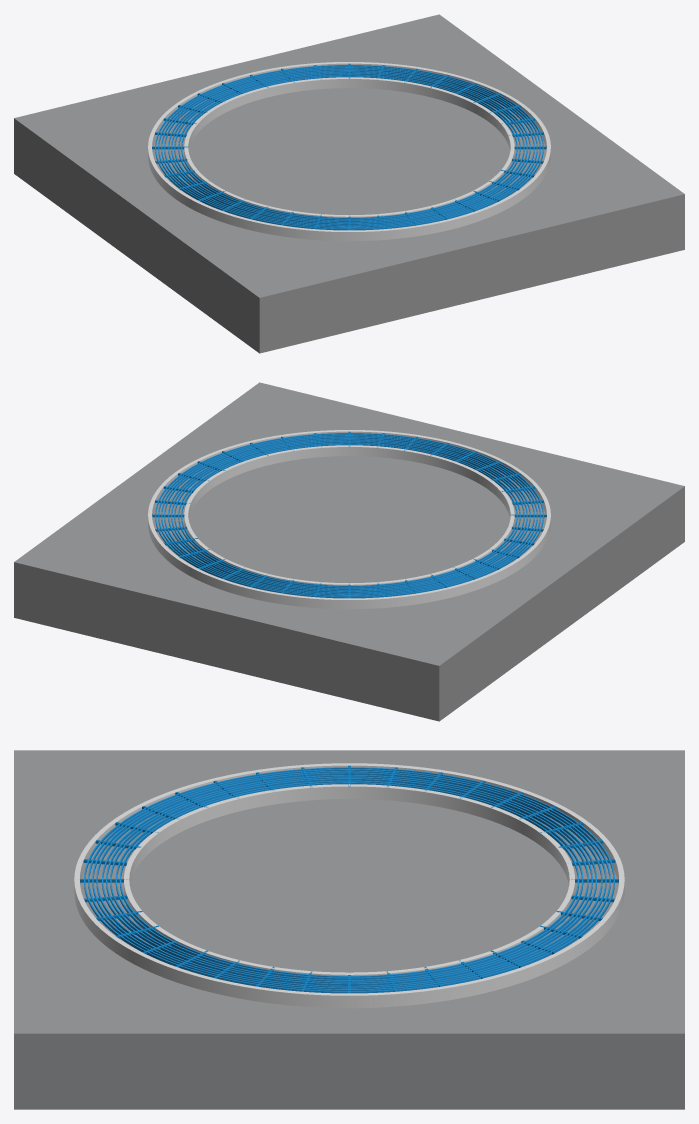
Rendered from ring-steel-cover.gltf.
3 renders of one model, top to bottom at view 1: azimuth 30°, elevation 25°; view 2: azimuth 150°, elevation 25°; view 3: azimuth 270°, elevation 25°, orthographic. The views are drawn at different scales.
Parts seen in each view (by area): view 1: 拉伸 [231271], 拉伸 [231405], 拉伸 [231386], 拉伸 [231397], 拉伸 [231457]; view 2: 拉伸 [231271], 拉伸 [231405], 拉伸 [231386], 拉伸 [231397], 拉伸 [231457]; view 3: 拉伸 [231271], 拉伸 [231405], 拉伸 [231386], 拉伸 [231397], 拉伸 [231457].
Part boxes in pixels (x1,y1,x2,y2): 拉伸 [231271]: (14,14,684,353); 拉伸 [231405]: (155,65,543,230); 拉伸 [231386]: (148,62,550,241); 拉伸 [231397]: (184,77,514,217); 拉伸 [231457]: (152,63,546,230); 拉伸 [231271]: (14,382,684,721); 拉伸 [231405]: (155,433,543,598); 拉伸 [231386]: (148,430,550,609); 拉伸 [231397]: (184,445,514,585); 拉伸 [231457]: (152,431,546,598); 拉伸 [231271]: (14,750,684,1109); 拉伸 [231405]: (84,767,614,993); 拉伸 [231386]: (74,763,624,1008); 拉伸 [231397]: (124,784,574,975); 拉伸 [231457]: (80,765,618,993).
Bounding box in the file's own units: 2.44 × 0.3548 × 2.44.
